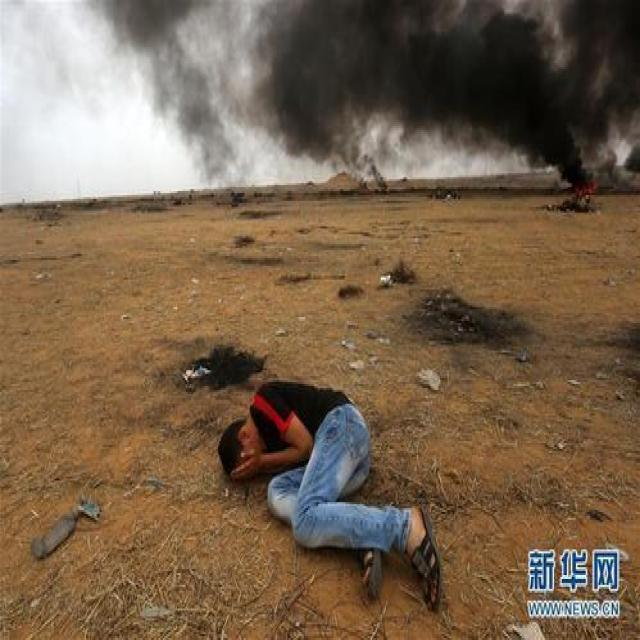fall: (218, 382, 443, 612)
